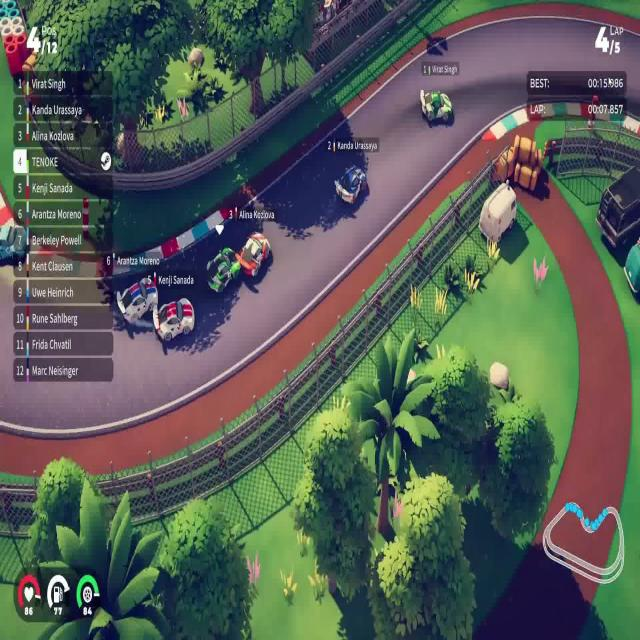car: (115, 273, 158, 326), (152, 296, 195, 343), (234, 230, 272, 278), (205, 246, 241, 294), (334, 162, 366, 206), (419, 87, 453, 126)
